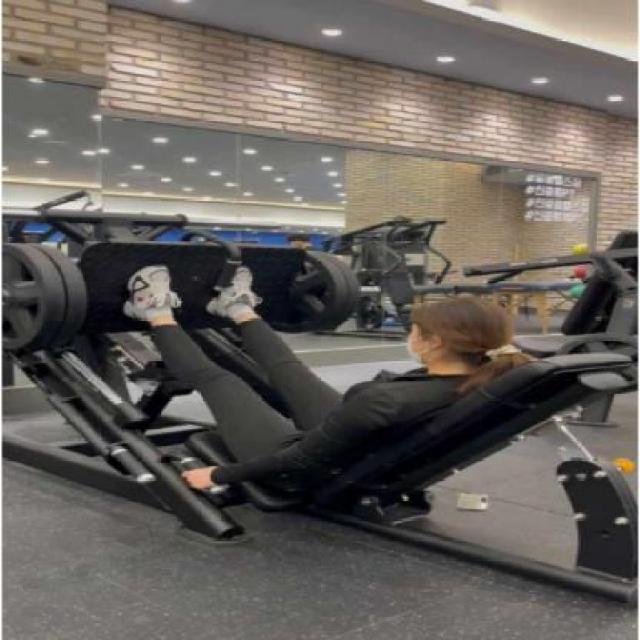leg press: (7, 195, 640, 639)
